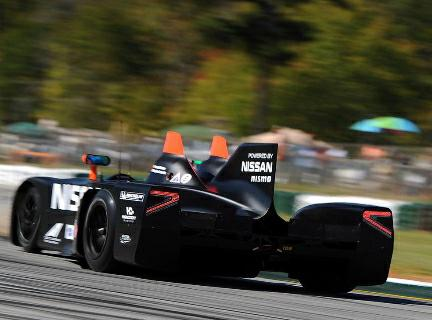奥迪-Q5: (8, 128, 404, 306)
